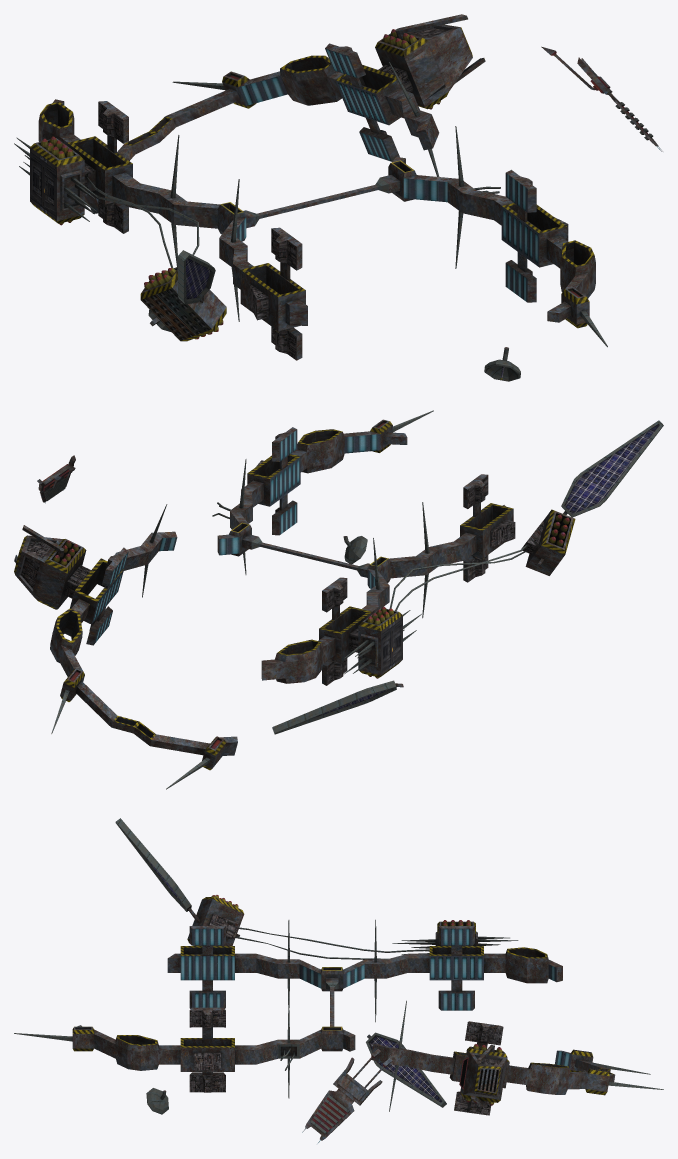
The model's file is JTL-variation3.obj.
3 views of the same model, one above another, from view 1: azimuth 30°, elevation 25°; view 2: azimuth 150°, elevation 25°; view 3: azimuth 270°, elevation 25° (orthographic). The views are drawn at different scales.
Parts seen in each view (by area): view 1: Box01; view 2: Box01; view 3: Box01.
Part boxes in pixels (x1,y1,x2,y2): Box01: [14, 14, 662, 381]; Box01: [14, 410, 663, 789]; Box01: [14, 818, 663, 1143].
Size of the model in its own units: 239 by 104 by 301.
1 material, 1 textured.
